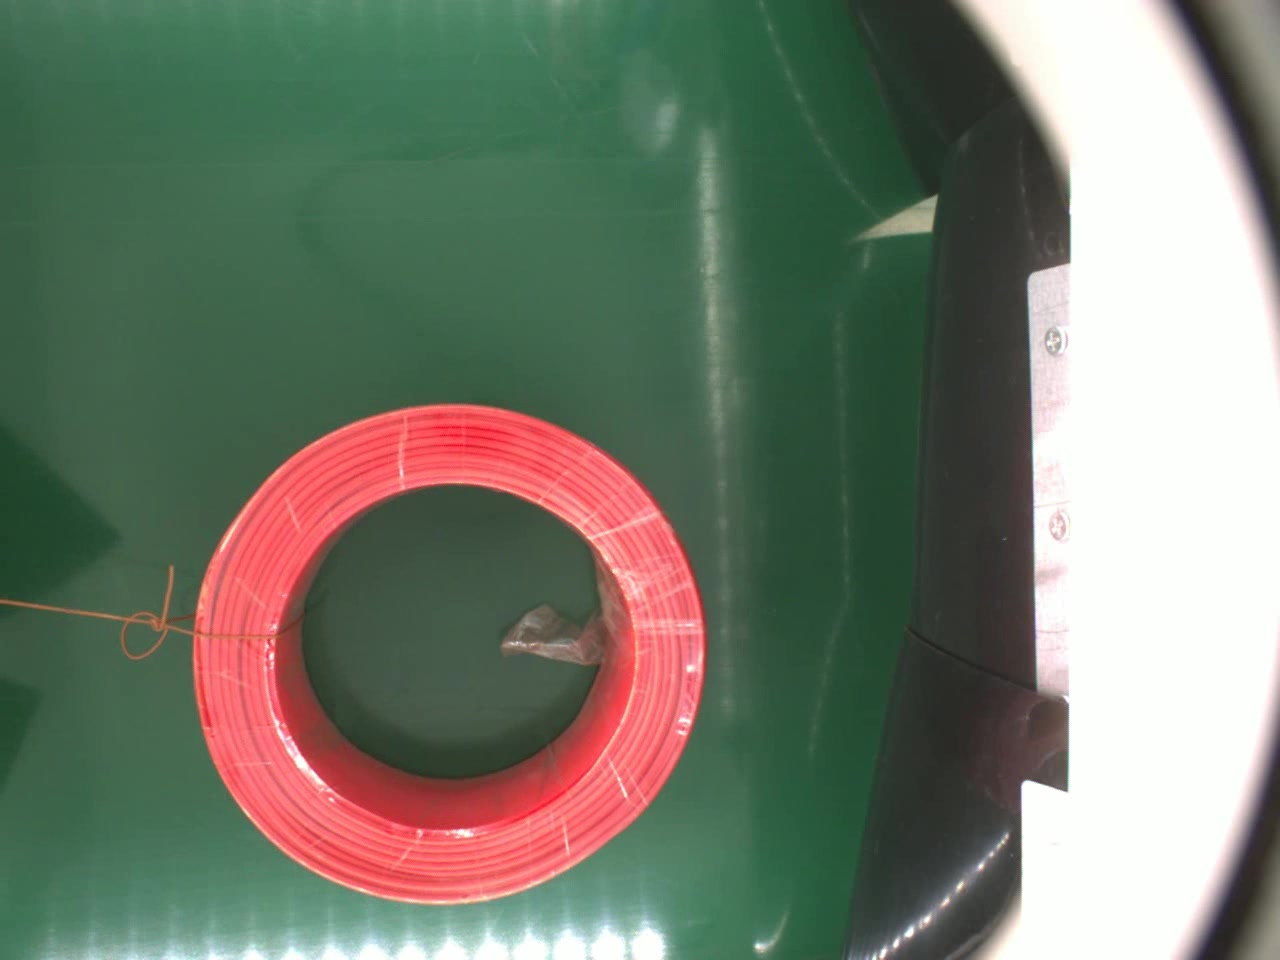red: (191, 399, 711, 910)
